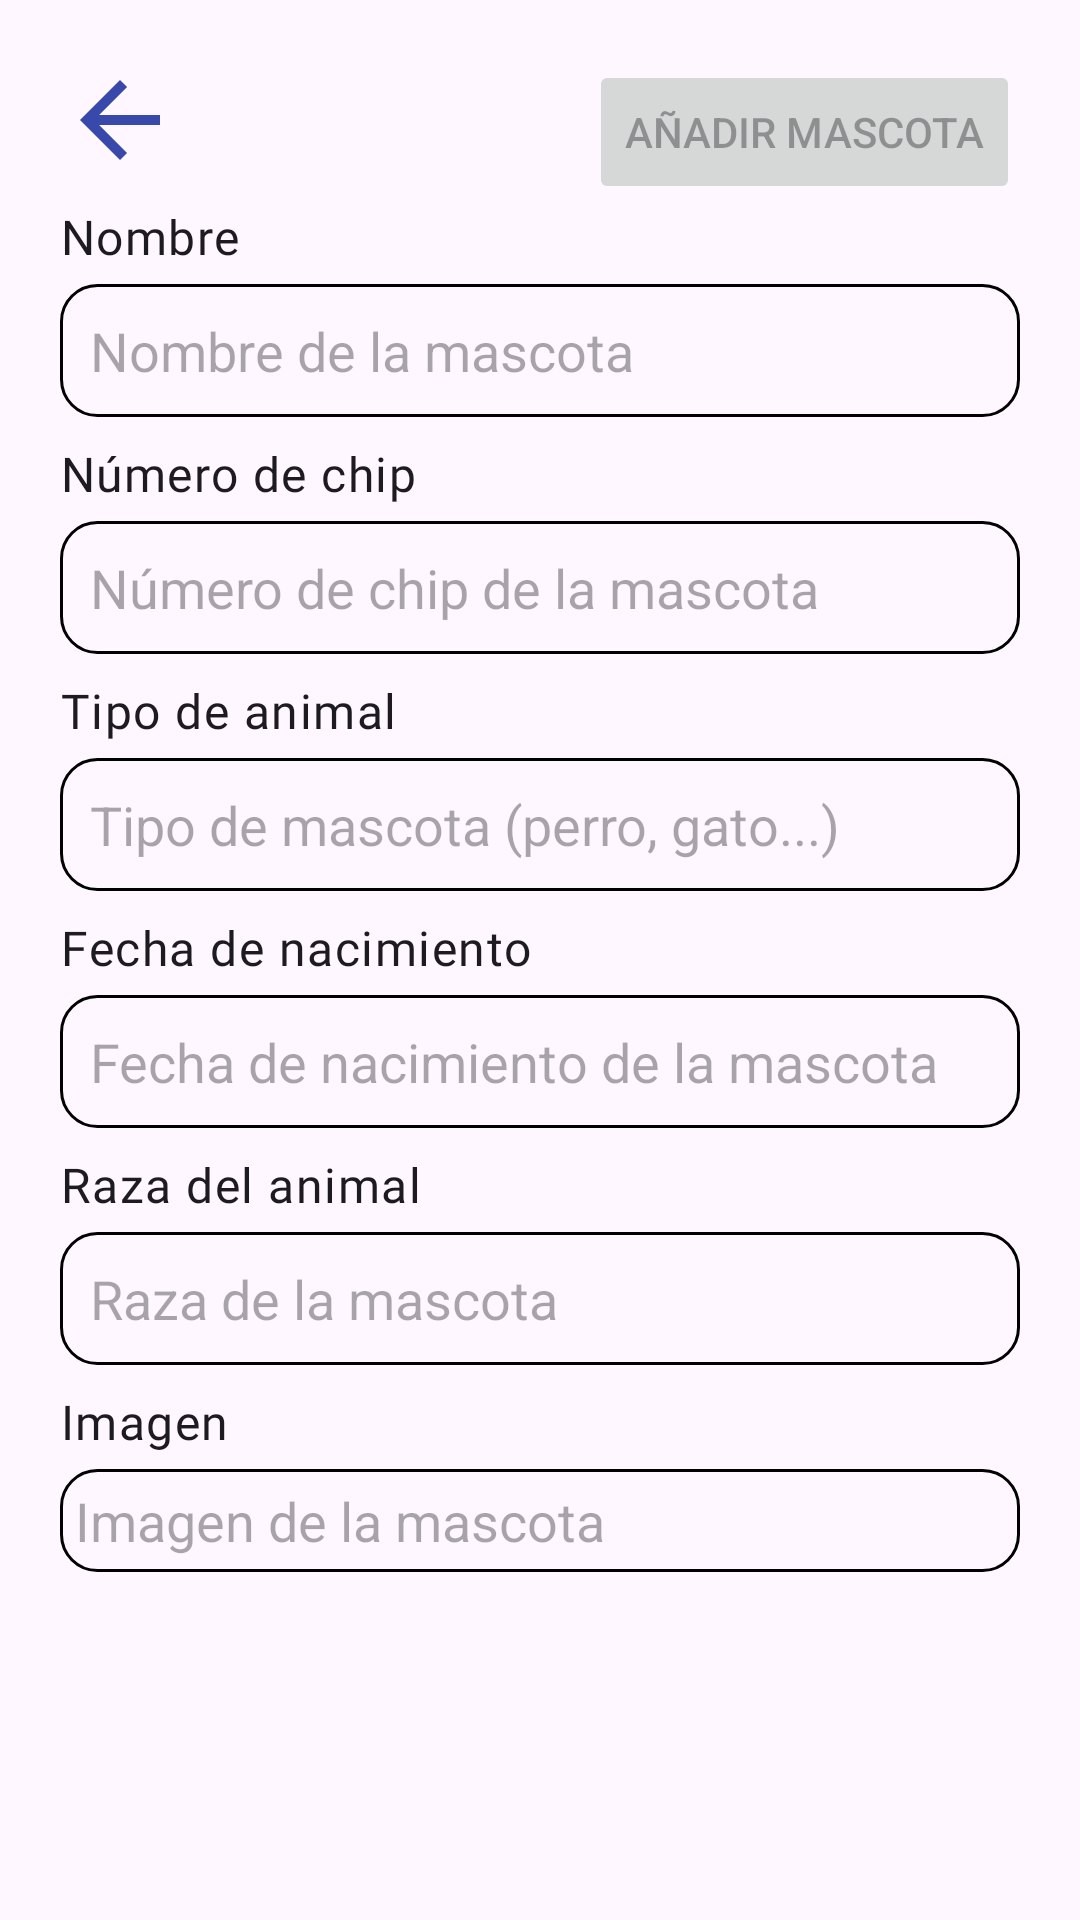

Screen size 1080w x 1920h. Icon name, then its box in pixels as (x1, y1, x2, y2):
arrow back: (80, 80, 160, 160)
